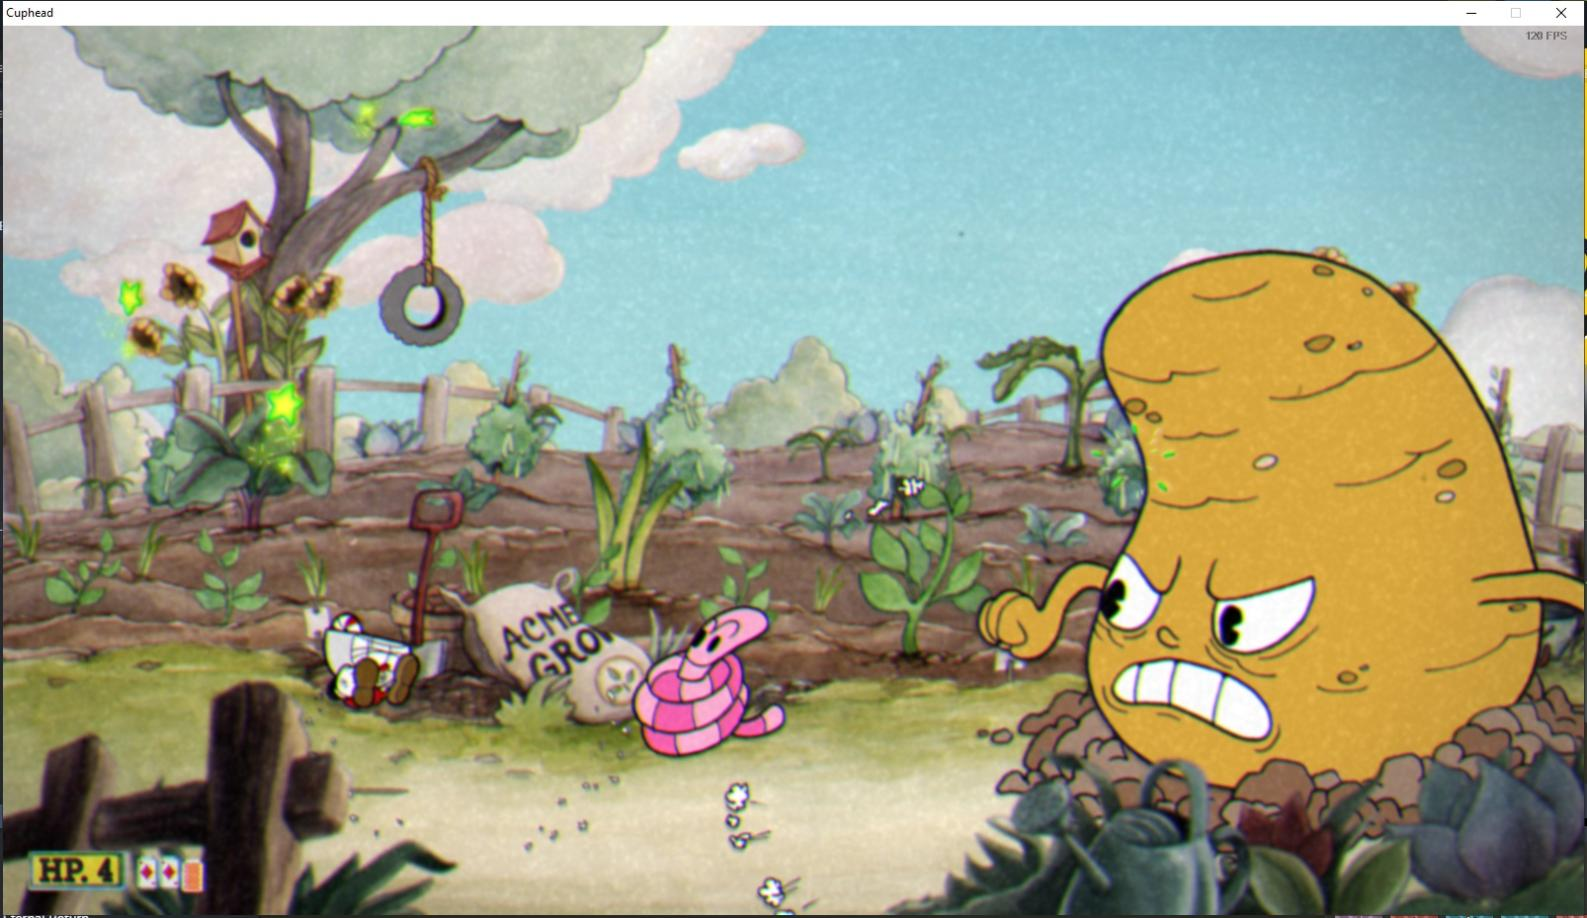hp4: (90, 850, 126, 892)
player: (310, 598, 434, 726)
potato_boss: (1066, 238, 1555, 818)
worm: (610, 593, 803, 769)
